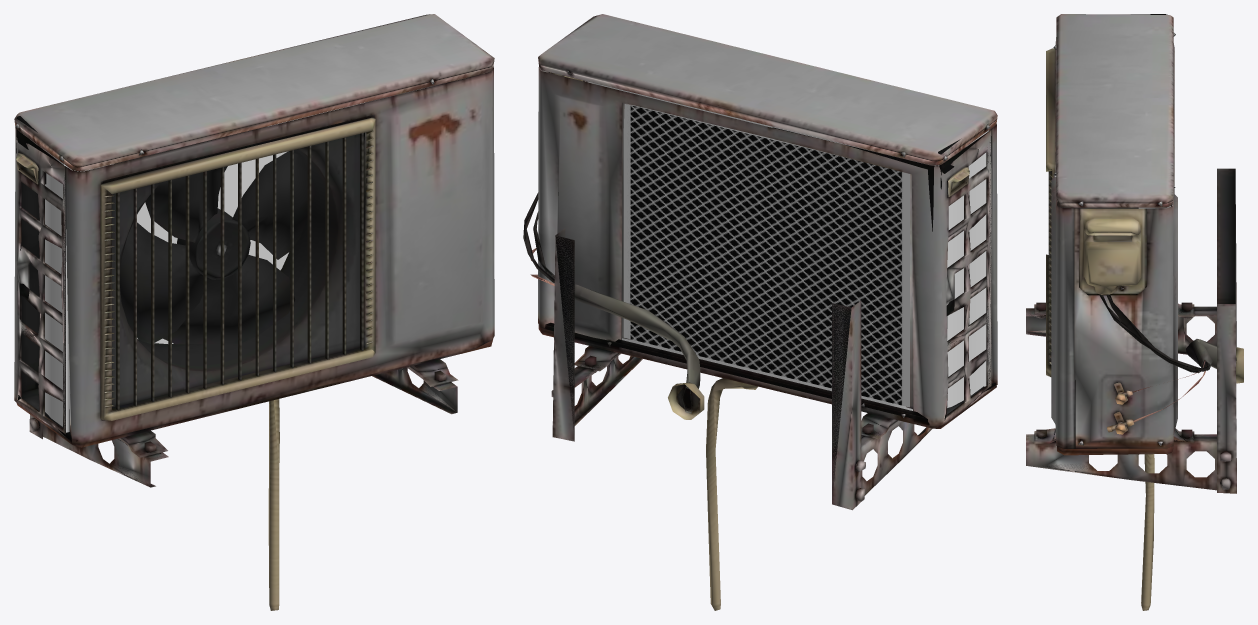
The model's file is ph_exterior_aircon_unit.glb.
3 views of the same model, side by side, from view 1: azimuth 30°, elevation 25°; view 2: azimuth 150°, elevation 25°; view 3: azimuth 270°, elevation 25° (orthographic). The views are drawn at different scales.
Visible parts, largest first — view 1: exterior_aircon_unit_rusted; view 2: exterior_aircon_unit_rusted; view 3: exterior_aircon_unit_rusted.
Boxes of the visible parts, x1,y1,x2,y2 form: exterior_aircon_unit_rusted: (14,14,494,610); exterior_aircon_unit_rusted: (523,14,997,610); exterior_aircon_unit_rusted: (1026,14,1243,610).
Size of the model in its own units: 0.7961 by 0.9279 by 0.3742.
2 materials, 2 textured.
